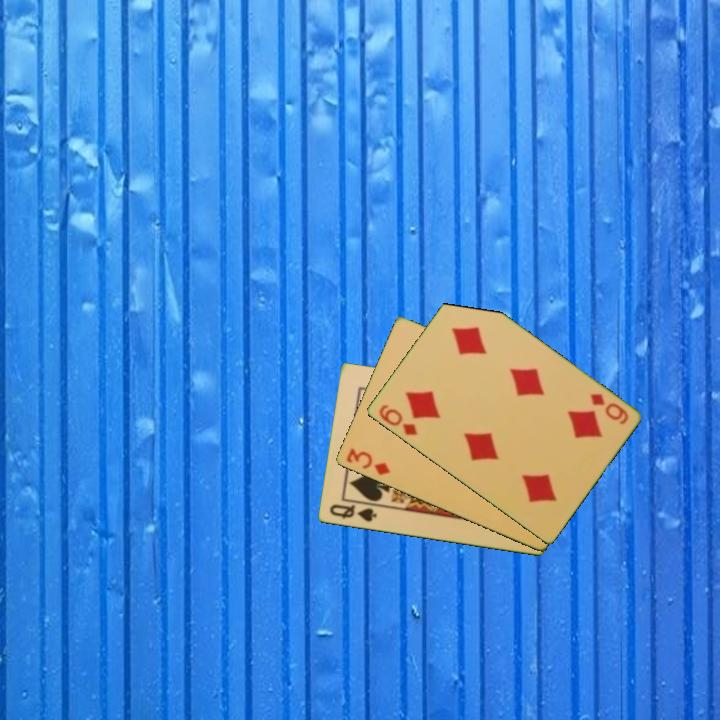3d: (342, 445, 393, 478)
6d: (375, 401, 420, 439), (586, 390, 631, 428)
Qs: (326, 501, 379, 525)
